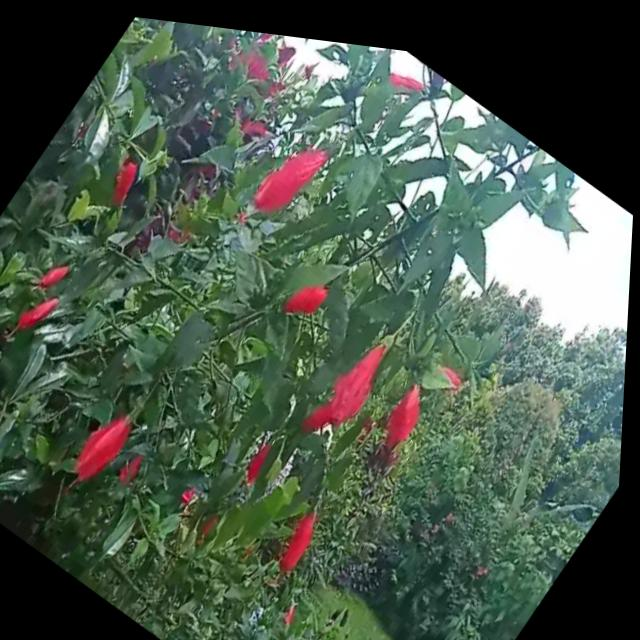Flower: (307, 306, 406, 448), (249, 105, 348, 232), (66, 384, 153, 502), (373, 361, 442, 455), (274, 483, 342, 576), (14, 277, 71, 351), (277, 260, 335, 327), (102, 147, 151, 210), (244, 420, 292, 484), (42, 248, 79, 293)
